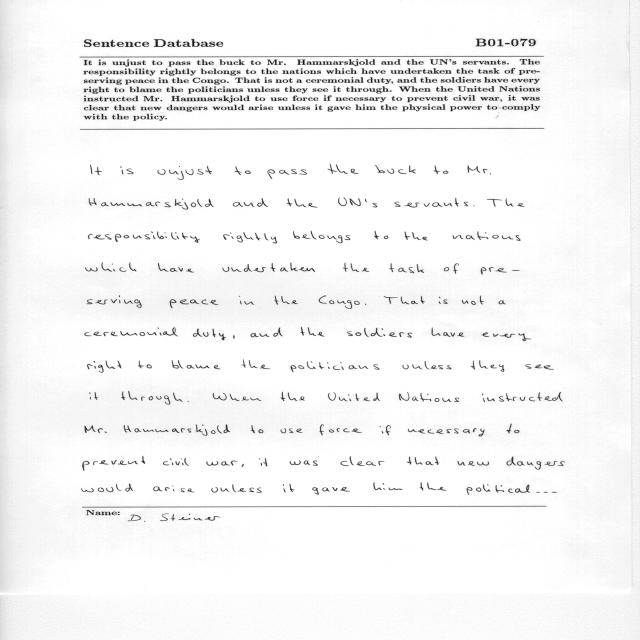word: (89, 198, 214, 209), (88, 231, 200, 243), (124, 424, 230, 436), (291, 362, 380, 373), (83, 456, 145, 471), (223, 263, 315, 273), (121, 391, 183, 405), (85, 328, 178, 337), (482, 392, 563, 402), (506, 457, 565, 470), (158, 166, 212, 180), (394, 198, 468, 208), (408, 428, 485, 437), (467, 484, 530, 495), (293, 231, 350, 243), (453, 231, 521, 241), (87, 296, 142, 308), (347, 328, 412, 338), (399, 392, 459, 402), (223, 232, 277, 243), (319, 296, 360, 309), (86, 262, 137, 272), (319, 425, 362, 436), (328, 393, 380, 402), (82, 484, 133, 493), (212, 484, 262, 493), (170, 299, 219, 308), (172, 360, 221, 369), (341, 456, 385, 466), (267, 169, 307, 179), (482, 333, 532, 341), (471, 360, 504, 372), (403, 361, 452, 369), (213, 393, 262, 401), (339, 198, 378, 208), (88, 361, 122, 372), (375, 165, 416, 174), (193, 329, 226, 340), (389, 263, 424, 273), (487, 198, 525, 207), (432, 327, 465, 337), (384, 296, 425, 304), (158, 263, 194, 272), (251, 328, 283, 338), (233, 198, 268, 207), (481, 267, 520, 275), (328, 164, 359, 174), (312, 487, 350, 495), (153, 486, 195, 493), (287, 199, 318, 208), (241, 360, 270, 369), (343, 262, 369, 272), (407, 457, 439, 465), (374, 483, 403, 491), (280, 392, 305, 401), (274, 296, 298, 305), (301, 328, 325, 337), (420, 483, 447, 491), (163, 458, 189, 466), (468, 166, 491, 175), (405, 232, 428, 241), (462, 296, 484, 305), (85, 425, 107, 433), (525, 364, 554, 370), (444, 263, 459, 274), (457, 461, 489, 466), (207, 461, 238, 466), (234, 166, 251, 175), (290, 461, 318, 466), (239, 296, 254, 305), (434, 165, 448, 174), (507, 424, 520, 433), (374, 231, 388, 239), (138, 361, 152, 369), (91, 165, 102, 175), (281, 429, 303, 434), (380, 425, 391, 435), (121, 167, 134, 175), (251, 425, 264, 433), (283, 484, 295, 492), (90, 392, 98, 400), (259, 458, 267, 466), (439, 297, 448, 304), (499, 301, 505, 305), (536, 492, 557, 493), (241, 464, 244, 467), (233, 335, 235, 339), (474, 206, 475, 207), (365, 304, 366, 305), (188, 401, 189, 402)
